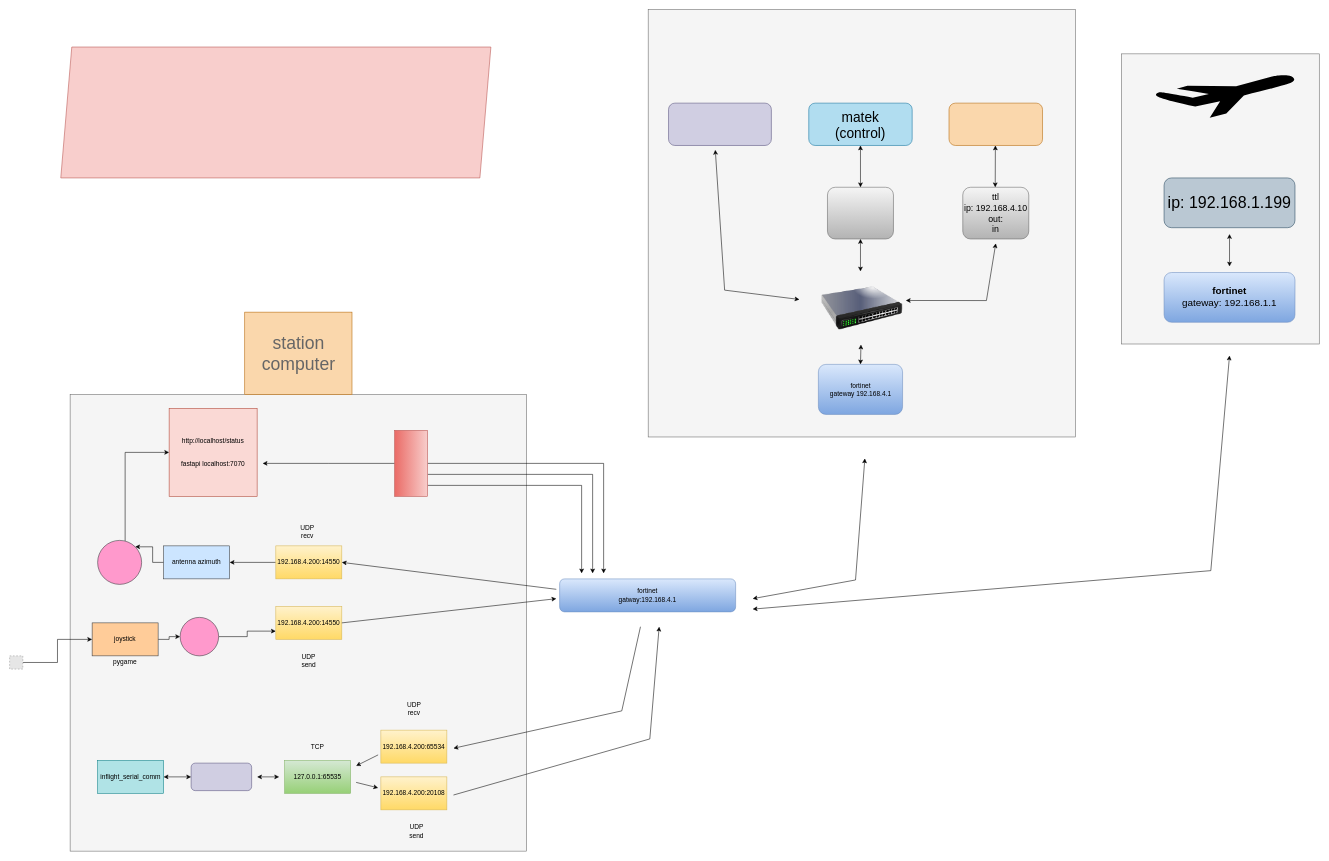
Some shapes in this 1329 by 861 pixel diagram are drawn without their labels. Grey dashed boxes stand in for pictures. Here are the shapes that lost their labels. From the top down, the box of each, then its label:
(60, 46, 491, 178): all ip's is for Lsight
(668, 103, 771, 145): maris ip: 192168.4.20
(948, 103, 1043, 145): dragon
(827, 187, 893, 239): ttl ip: 192.168.4.30 out: in:
(394, 430, 428, 496): ping dragon maris matek
(97, 540, 142, 584): azimuth queue
(180, 617, 219, 656): joystick queue
(191, 763, 252, 791): serial:ttySOCAT
